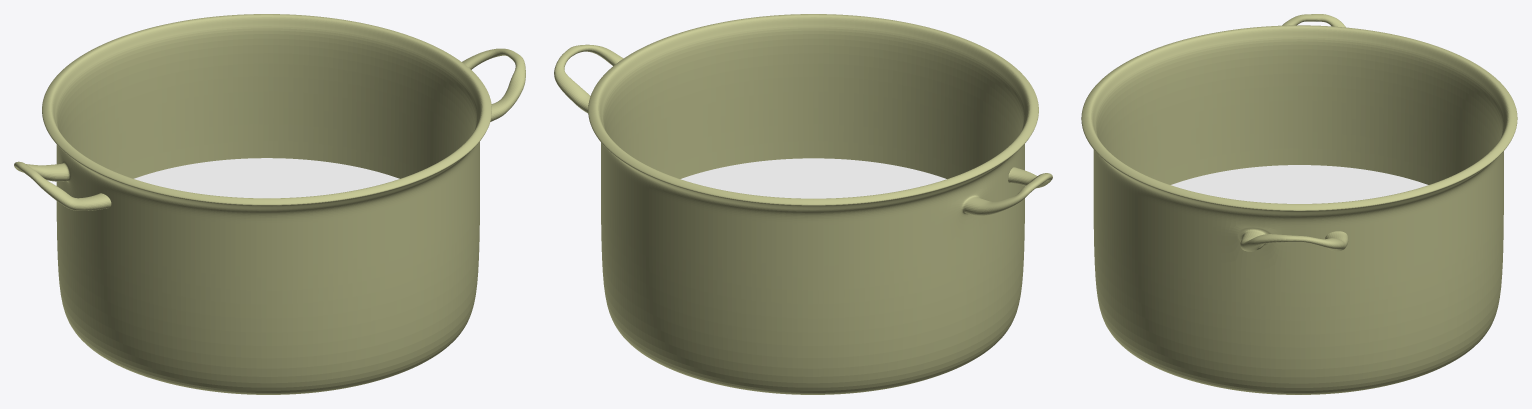
Rendered from Pot_with_milk_Visual.fbx.
3 views of the same model, side by side, from view 1: azimuth 30°, elevation 25°; view 2: azimuth 150°, elevation 25°; view 3: azimuth 270°, elevation 25° (orthographic). The views are drawn at different scales.
Parts seen in each view (by area): view 1: Pot, Milk; view 2: Pot, Milk; view 3: Pot, Milk.
Boxes of the visible parts, box(x1,y1,x2,y2) form: Pot: box(14, 14, 525, 394); Milk: box(134, 158, 399, 198); Pot: box(554, 14, 1052, 394); Milk: box(680, 158, 946, 198); Pot: box(1081, 14, 1517, 394); Milk: box(1171, 165, 1428, 203).
Bounding box in the file's own units: 78.91 × 32.88 × 63.35.
